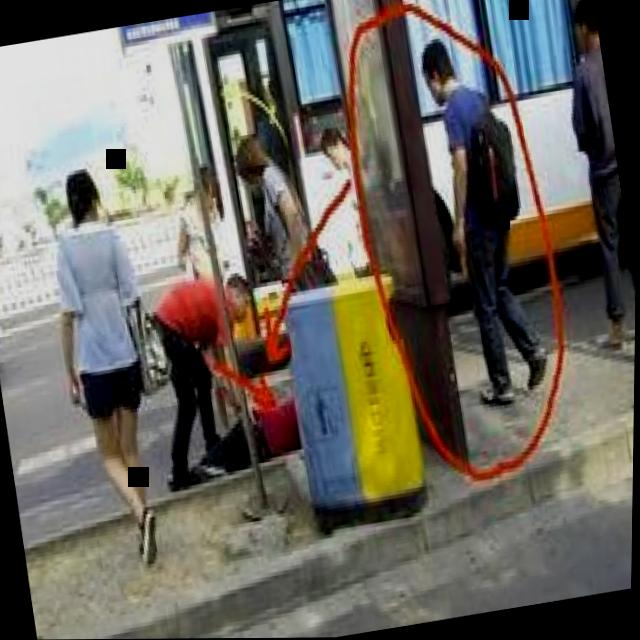Fall-Detected: (169, 353, 337, 494)
